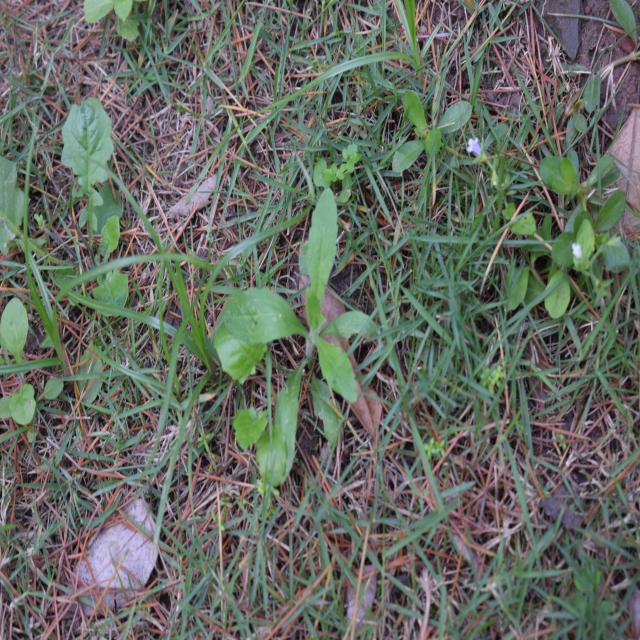horseweed: (210, 221, 397, 467)
